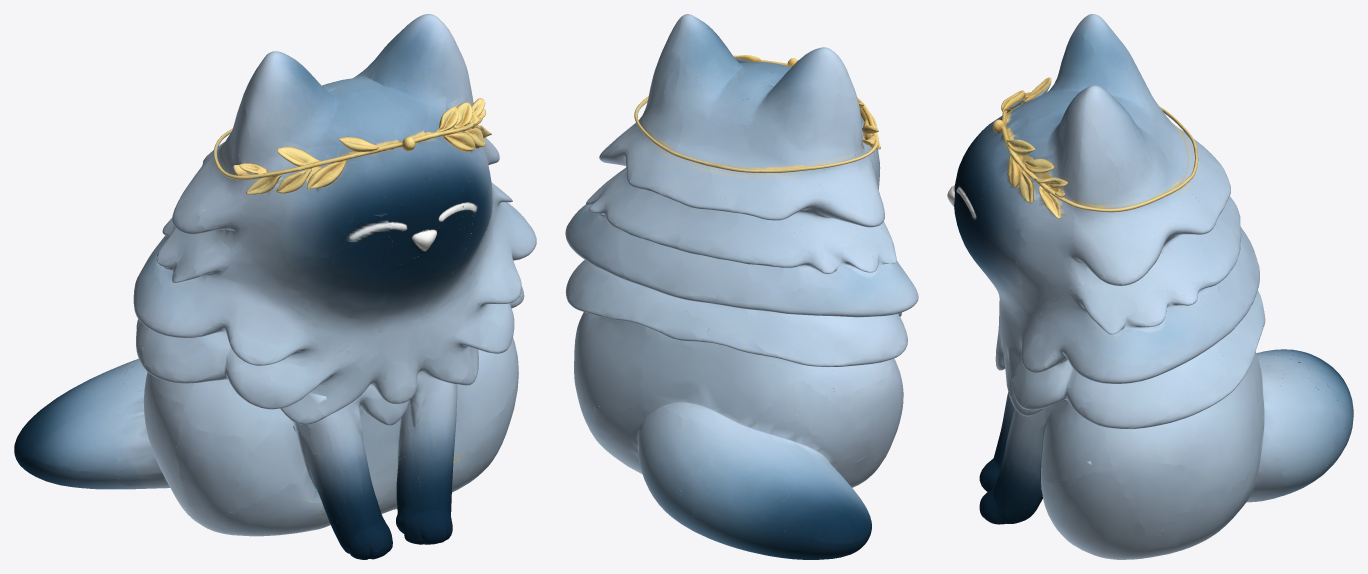
File: laurel-crown-CJlW0Tt-.glb
3 views of the same model, side by side, from view 1: azimuth 30°, elevation 25°; view 2: azimuth 150°, elevation 25°; view 3: azimuth 270°, elevation 25° (orthographic). The views are drawn at different scales.
Visible parts, largest first — view 1: worn-laurel-crown; view 2: worn-laurel-crown; view 3: worn-laurel-crown.
Part boxes in pixels (box(x1,y1,x2,y2)): worn-laurel-crown: box(14, 14, 536, 559); worn-laurel-crown: box(565, 14, 918, 559); worn-laurel-crown: box(947, 14, 1353, 559).
Size of the model in its own units: 1.75 by 1.9 by 1.53.
1 material, 1 textured.
